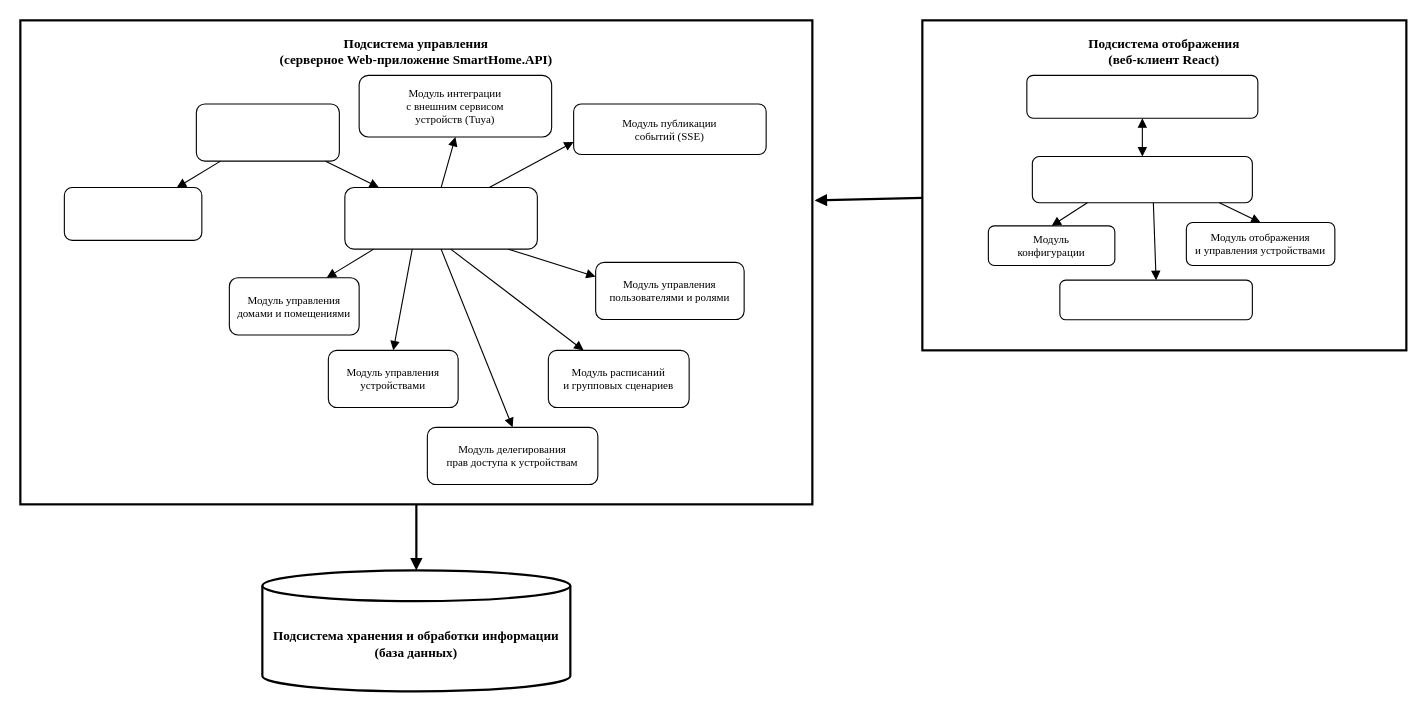
The diagram is 1426 pixels wide and 711 high, and some of its shapes have lost their labels. The shapes that lost their labels are listed below. From the top down, each one's centre as x and y in pixels, then its label:
[1142,96]: Информационный модуль (телеметрия, статусы)
[267,132]: Модуль авторизации
[1141,179]: Модуль глобальной навигации
[132,213]: Модуль регистрации
[440,217]: Модуль маршрутизации и контроллеров (REST)
[1155,299]: Модуль навигации по структуре «дом — комната — устройство»
